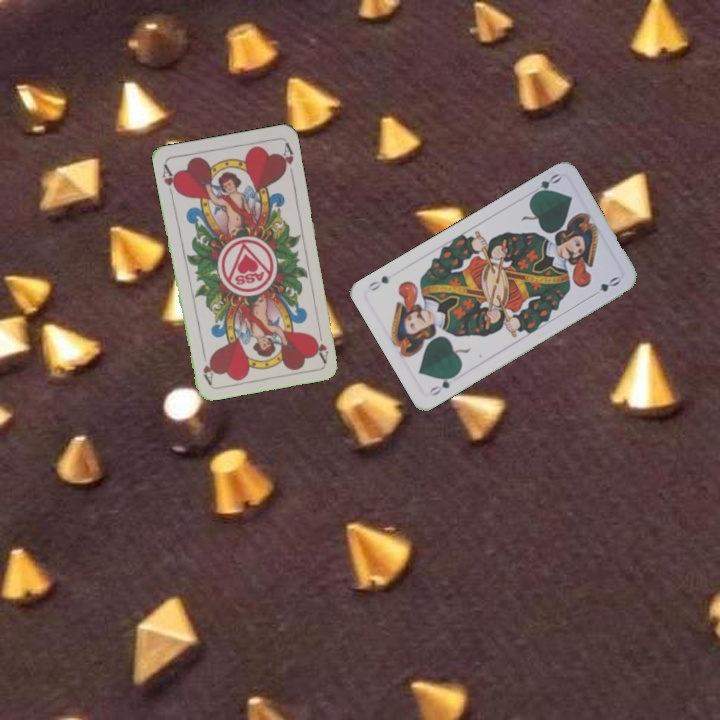GO: (525, 169, 563, 200), (425, 370, 460, 399)
HA: (158, 160, 181, 200), (310, 324, 331, 364)
